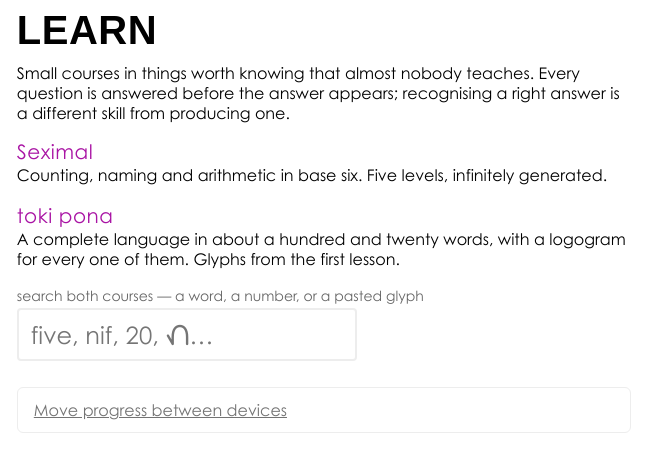
Test case: seximal search › /learn says "No match" once, not once per course
Type "zzzzzz" into the field labelled "search both courses — a word, a number, or a pasted glyph" at (187, 334), box [17, 308, 357, 361]
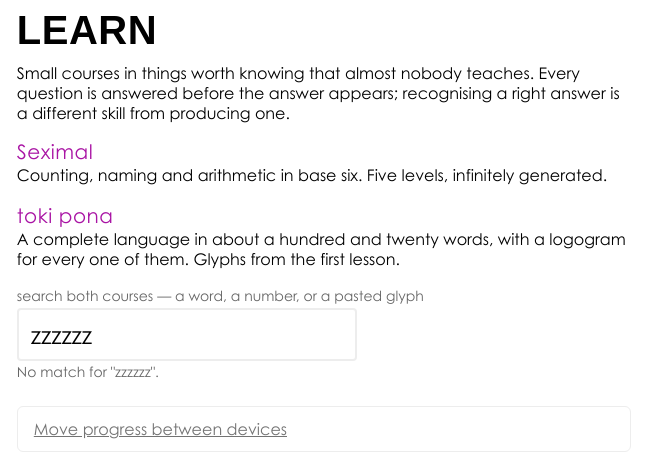
Expected: the text "No match for \"zzzzzz\"." is shown once, [17, 363, 159, 380]
